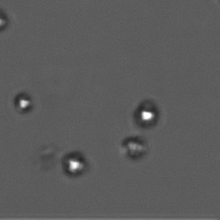Living Cell: (132, 97, 160, 129), (9, 90, 38, 115), (61, 152, 90, 177), (122, 134, 151, 159), (1, 8, 15, 34)
